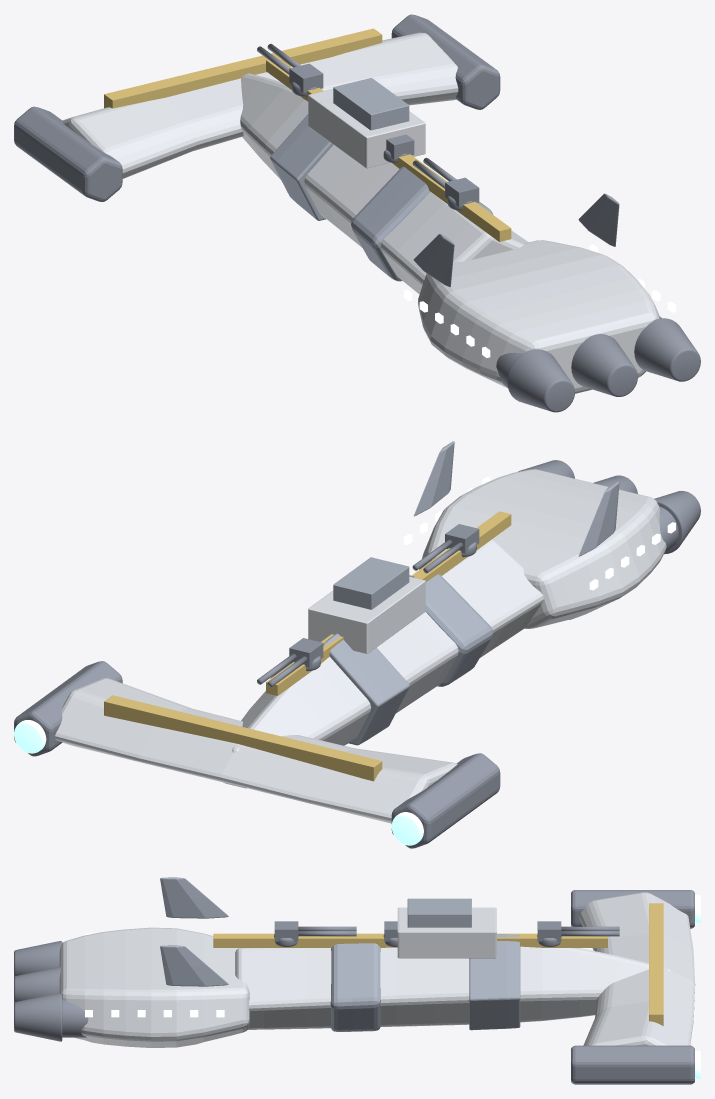
Rendered from consortium-galactica.glb.
3 renders of one model, top to bottom at view 1: azimuth 30°, elevation 25°; view 2: azimuth 150°, elevation 25°; view 3: azimuth 270°, elevation 25°, orthographic. The views are drawn at different scales.
Visible parts, largest first — view 1: hull.003, hammer, hull, Cylinder, Cube, Cube.001, hull.002, Cylinder.002, Cone, Cone.002, Cone.001, hull.001 (+6 smaller); view 2: hull.003, hammer, hull, Cube, Cube.001, Cylinder, hull.001, hull.002, Cube.002, Cylinder.002, Cube.007, fin.001 (+6 smaller); view 3: hull, hull.003, hammer, Cylinder.002, hull.002, hull.001, Cube.001, Cube.007, Cone.002, Cube.002, fin, fin.001 (+9 smaller).
Part boxes in pixels (<box>): hull.003: <box>418,240,659,393</box>; hammer: <box>62,32,458,178</box>; hull: <box>240,73,528,294</box>; Cylinder: <box>14,106,122,201</box>; Cube: <box>104,28,382,108</box>; Cube.001: <box>308,89,425,168</box>; hull.002: <box>351,166,493,281</box>; Cylinder.002: <box>391,14,500,109</box>; Cone: <box>507,349,574,412</box>; Cone.002: <box>634,318,700,381</box>; Cone.001: <box>571,334,637,396</box>; hull.001: <box>270,114,333,220</box>; hull.003: <box>419,469,666,628</box>; hammer: <box>55,678,457,823</box>; hull: <box>223,539,543,788</box>; Cube: <box>104,695,382,781</box>; Cube.001: <box>308,576,425,653</box>; Cylinder: <box>391,753,500,848</box>; hull.001: <box>270,633,409,745</box>; hull.002: <box>425,574,493,686</box>; Cube.002: <box>333,557,409,609</box>; Cylinder.002: <box>14,661,122,756</box>; Cube.007: <box>266,511,511,695</box>; fin.001: <box>413,441,454,516</box>; hull: <box>235,946,671,1029</box>; hull.003: <box>59,927,249,1047</box>; hammer: <box>579,892,695,1045</box>; Cylinder.002: <box>571,1045,694,1084</box>; hull.002: <box>330,943,380,1031</box>; hull.001: <box>469,934,520,1030</box>; Cube.001: <box>397,907,496,958</box>; Cube.007: <box>213,933,607,947</box>; Cone.002: <box>14,993,62,1041</box>; Cube.002: <box>407,898,471,927</box>; fin: <box>160,877,228,918</box>; fin.001: <box>160,945,228,986</box>.
Size of the model in its own units: 2.78 by 0.8822 by 4.7.
